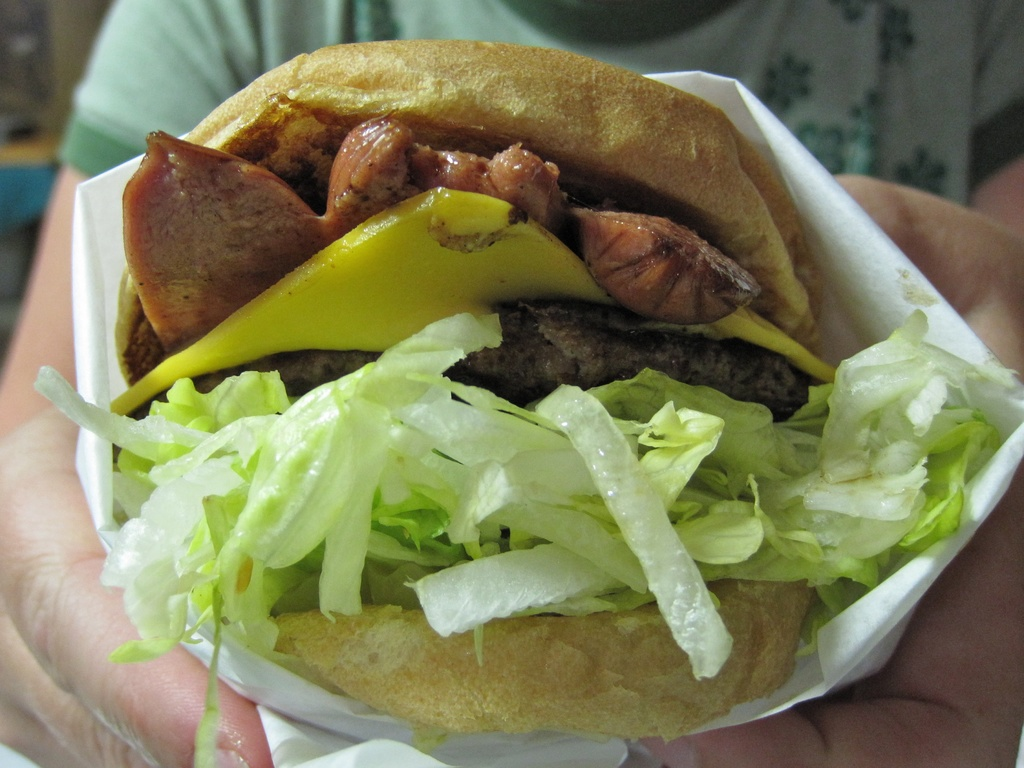Hamburger: (32, 39, 999, 767)
